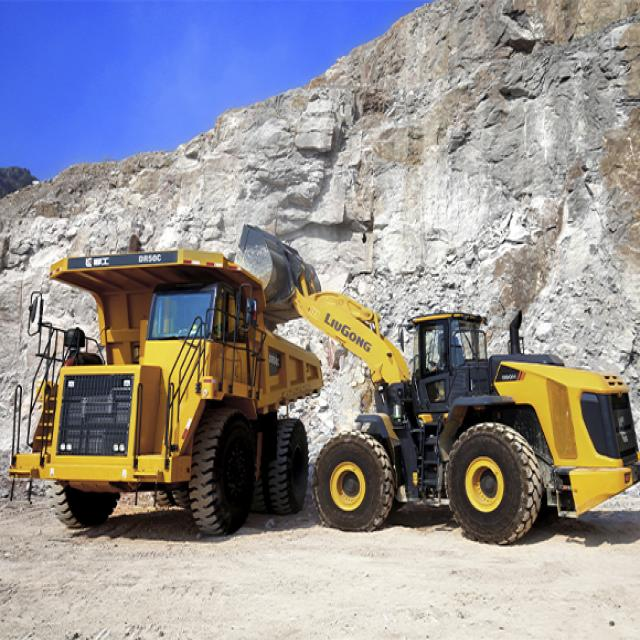buldozerpayloadergrader: (225, 207, 639, 555)
dump_truck: (4, 244, 317, 550)
